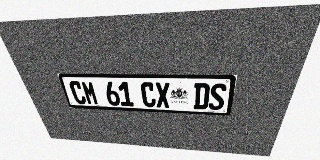1: (117, 82, 134, 106)
6: (103, 81, 121, 106)
C: (68, 81, 87, 104), (140, 82, 156, 107)
D: (193, 83, 210, 110)
M: (80, 81, 99, 105)
S: (208, 83, 227, 110)
X: (155, 82, 170, 108)
